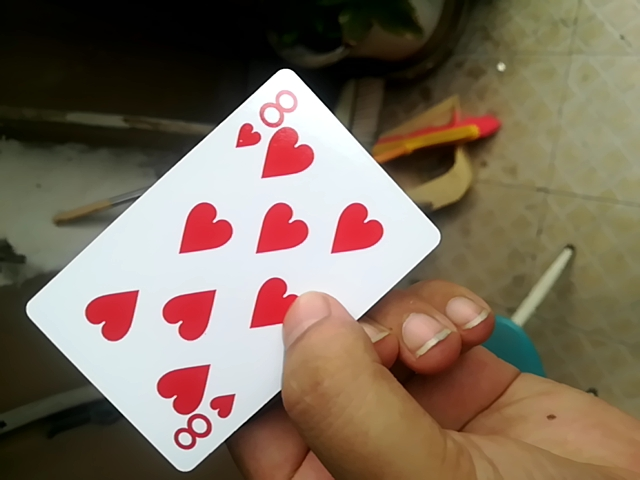hx 8: (18, 73, 442, 468)
